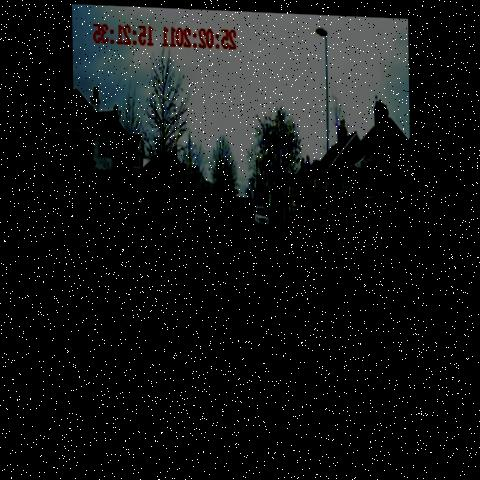pothole: (208, 304, 246, 337), (234, 282, 262, 306), (210, 342, 233, 368), (241, 268, 268, 289), (178, 264, 203, 286), (208, 374, 236, 391), (175, 279, 197, 298), (148, 278, 165, 302), (167, 296, 187, 314)
